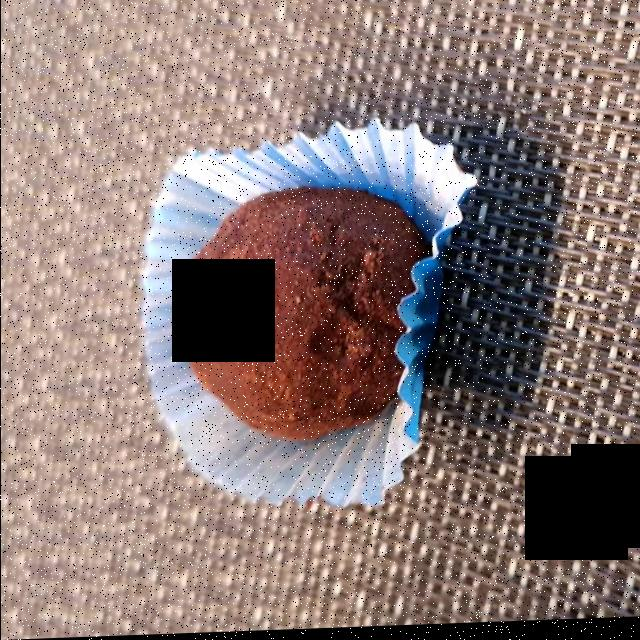praline: (186, 195, 417, 443)
